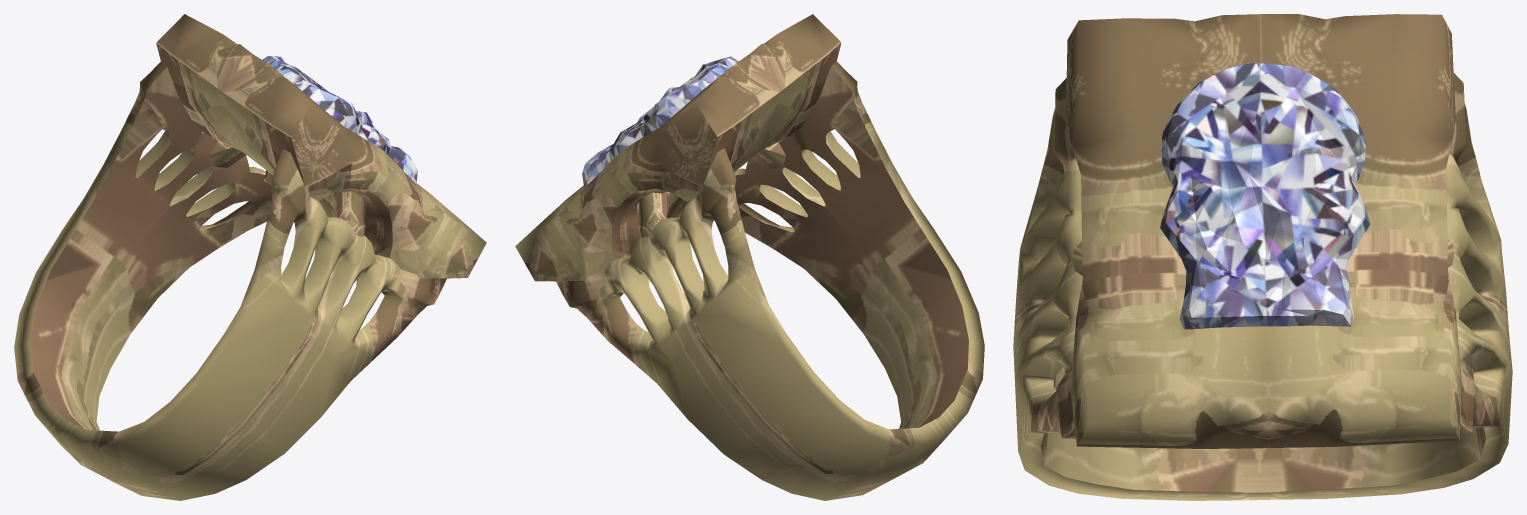
The model's file is RY001HA_PL_CP01_HD (merge).fbx.
3 renders of one model, left to right at view 1: azimuth 30°, elevation 25°; view 2: azimuth 150°, elevation 25°; view 3: azimuth 270°, elevation 25°, orthographic. The views are drawn at different scales.
Visible parts, largest first — view 1: RY001HA_PL_CP01_HD; view 2: RY001HA_PL_CP01_HD; view 3: RY001HA_PL_CP01_HD.
Part boxes in pixels (box(x1,y1,x2,y2)): RY001HA_PL_CP01_HD: box(14, 14, 486, 500); RY001HA_PL_CP01_HD: box(515, 14, 984, 500); RY001HA_PL_CP01_HD: box(1013, 14, 1512, 500).
Bounding box in the file's own units: 0.0234 × 0.0235 × 0.0181.
2 materials, 2 textured.
